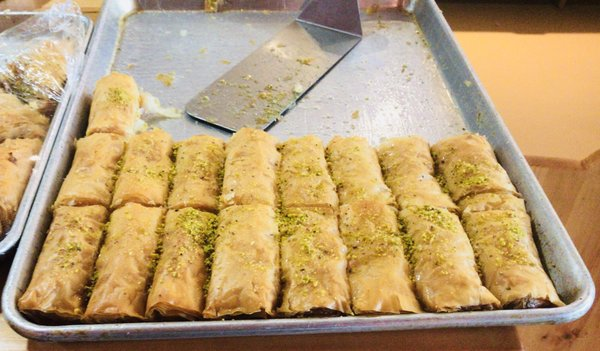curry: (2, 1, 598, 342)
